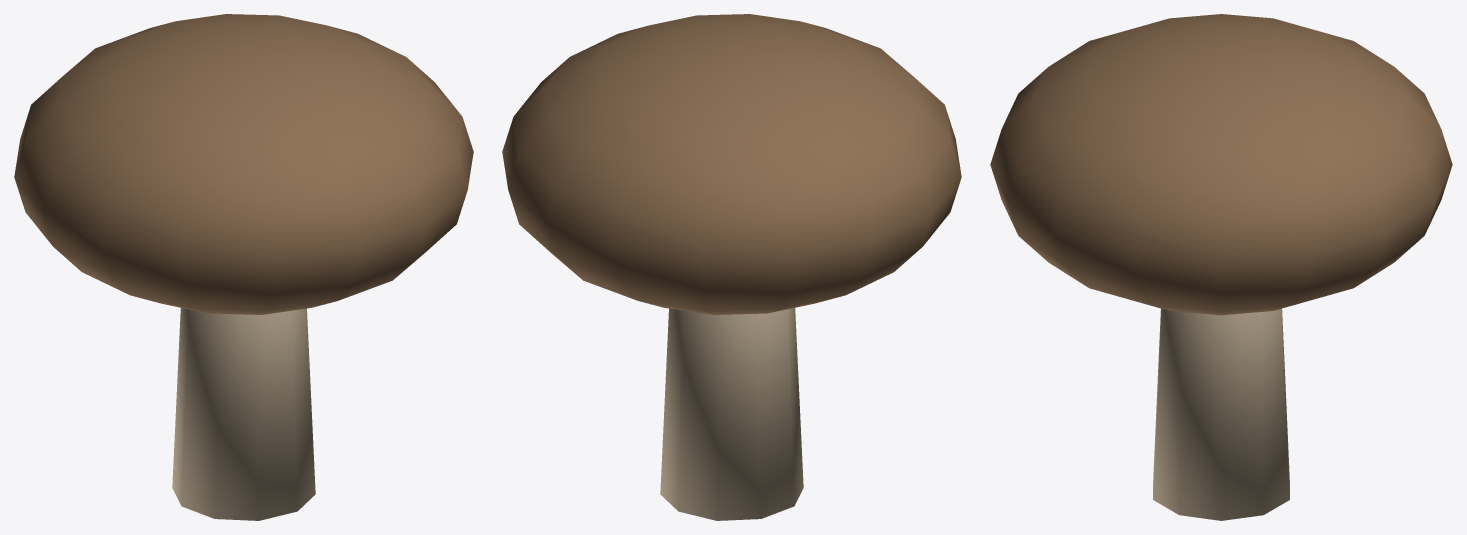
Rendered from SM_Item_mushroom_cooked.gltf.
The picture shows the model from 3 angles, left to right: view 1: azimuth 30°, elevation 25°; view 2: azimuth 150°, elevation 25°; view 3: azimuth 270°, elevation 25°; orthographic projection.
Parts seen in each view (by area): view 1: SM_Item_mushroom_cooked; view 2: SM_Item_mushroom_cooked; view 3: SM_Item_mushroom_cooked.
Part boxes in pixels (x1=…): SM_Item_mushroom_cooked: x1=14, y1=14, x2=473, y2=520; SM_Item_mushroom_cooked: x1=502, y1=14, x2=961, y2=520; SM_Item_mushroom_cooked: x1=990, y1=14, x2=1452, y2=520.
Size of the model in its own units: 0.09 by 0.0948 by 0.09.
